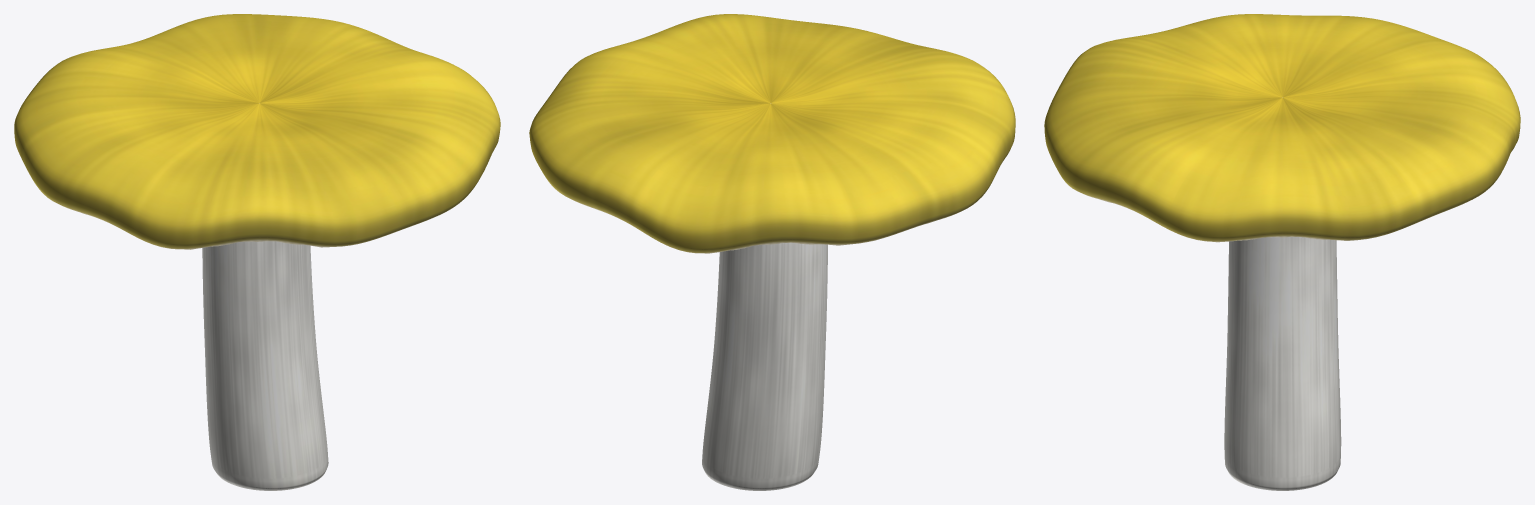
The model's file is russula-claroflava-drawn.glb.
3 views of the same model, side by side, from view 1: azimuth 30°, elevation 25°; view 2: azimuth 150°, elevation 25°; view 3: azimuth 270°, elevation 25° (orthographic).
Bounding box in the file's own units: 0.8193 × 0.7112 × 0.818.
Materials: 1 (1 with a texture image).
